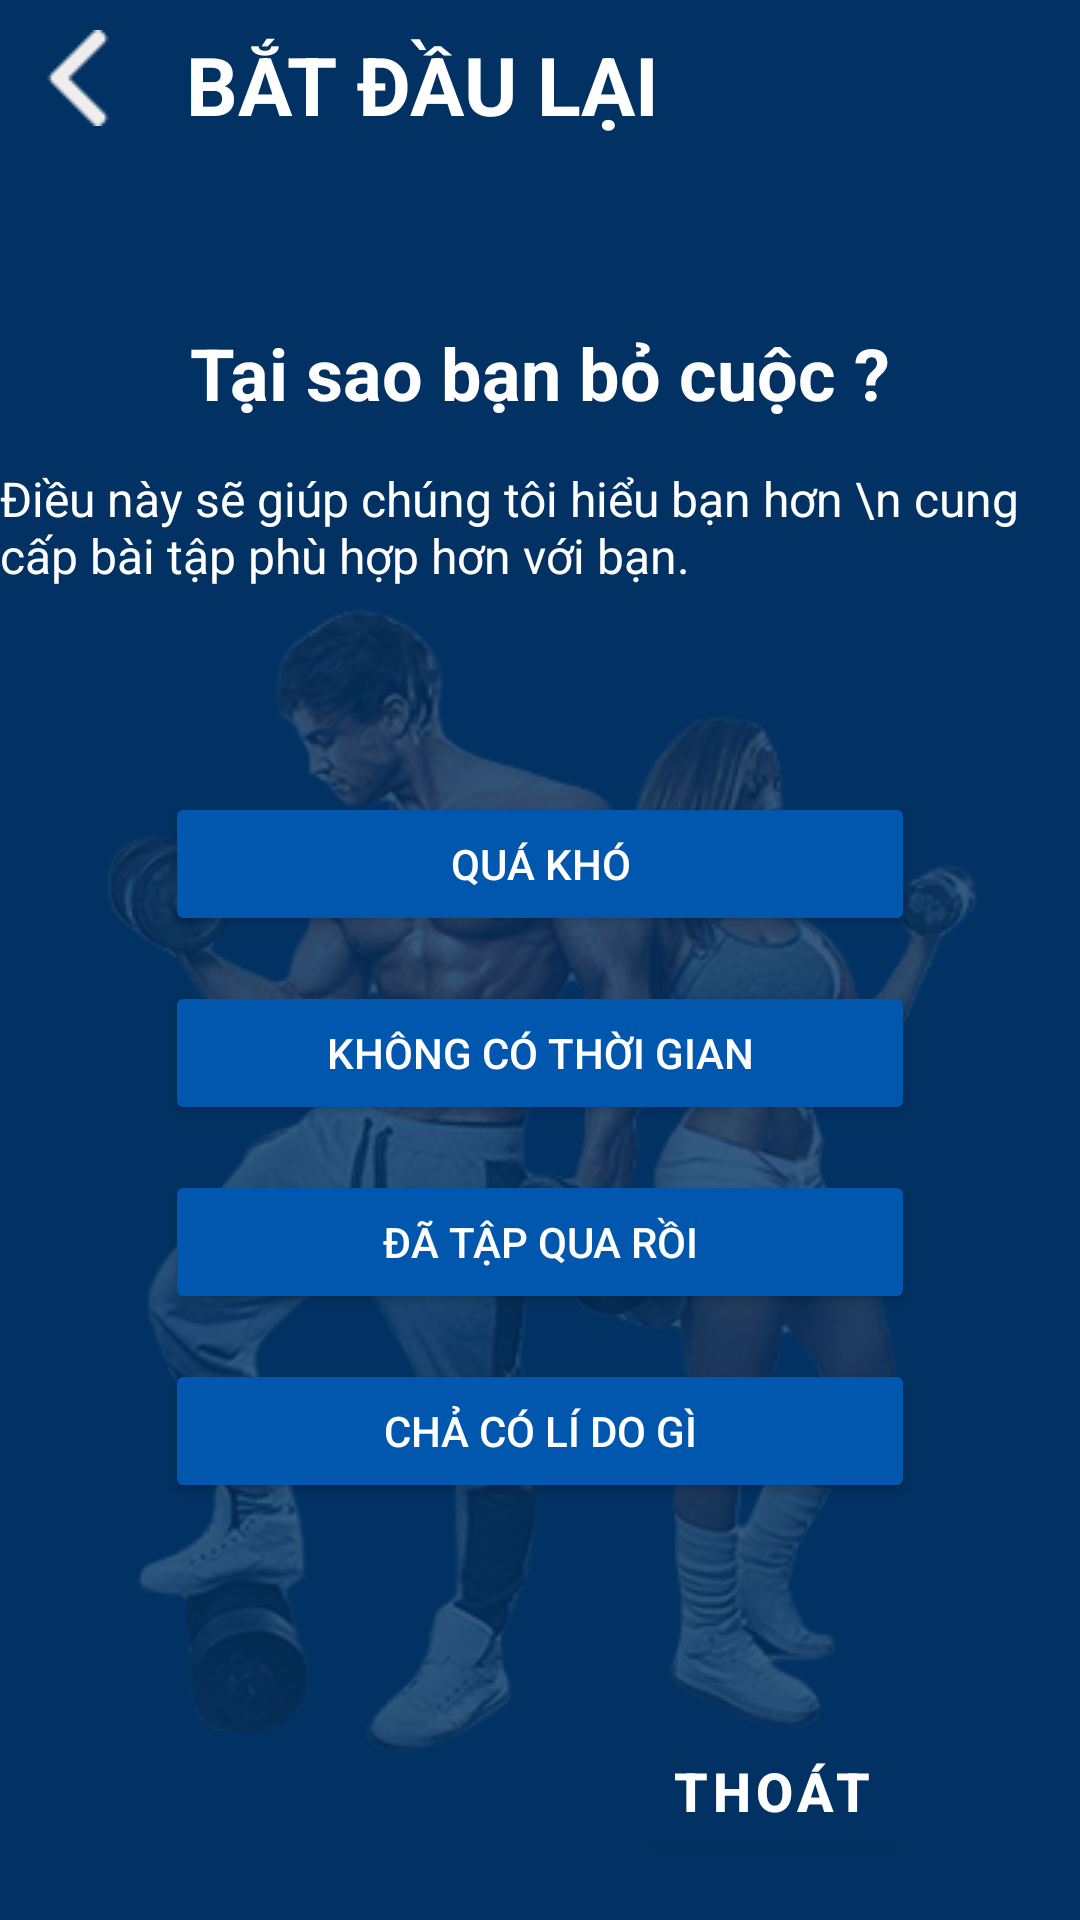

Icon click points for this 1080 x 1920 phone screenshot, format (x=x, y=y):
back: (x=78, y=78)
